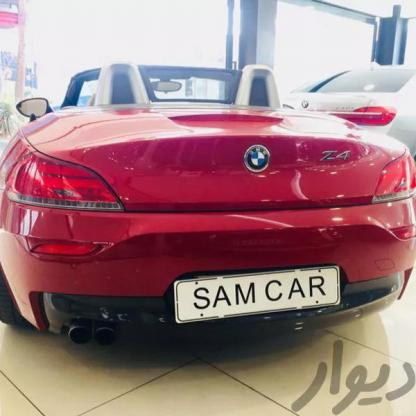Car: (0, 59, 416, 345), (283, 53, 416, 170)
